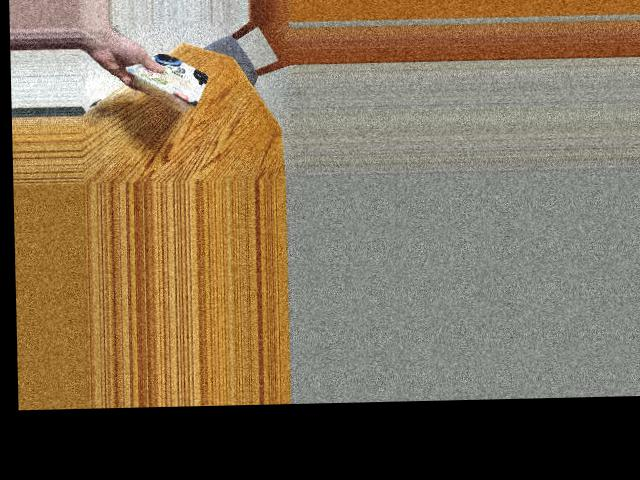cheese: (138, 42, 205, 120)
